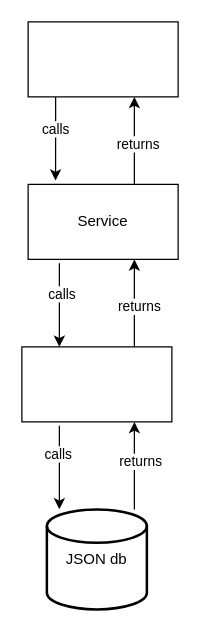
Image size: 200x633. Some labels were removed from this diagram. Each missing label, with the centre of its shape:
"Controller" belongs at [102,59].
"Repository" belongs at [96,384].
